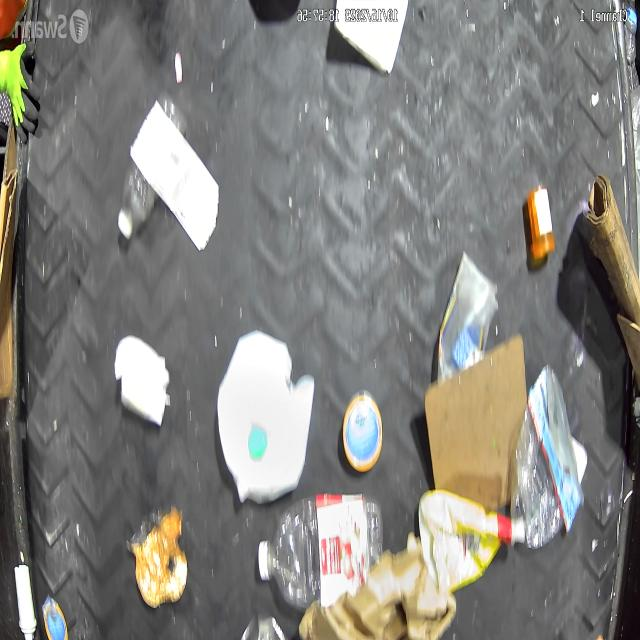milk_jug: (216, 332, 314, 505)
non_white_jug: (418, 489, 526, 592)
plastic_bottle: (258, 494, 382, 608), (510, 366, 580, 548), (117, 91, 187, 236), (436, 253, 498, 379), (341, 389, 384, 474), (625, 0, 637, 62)
